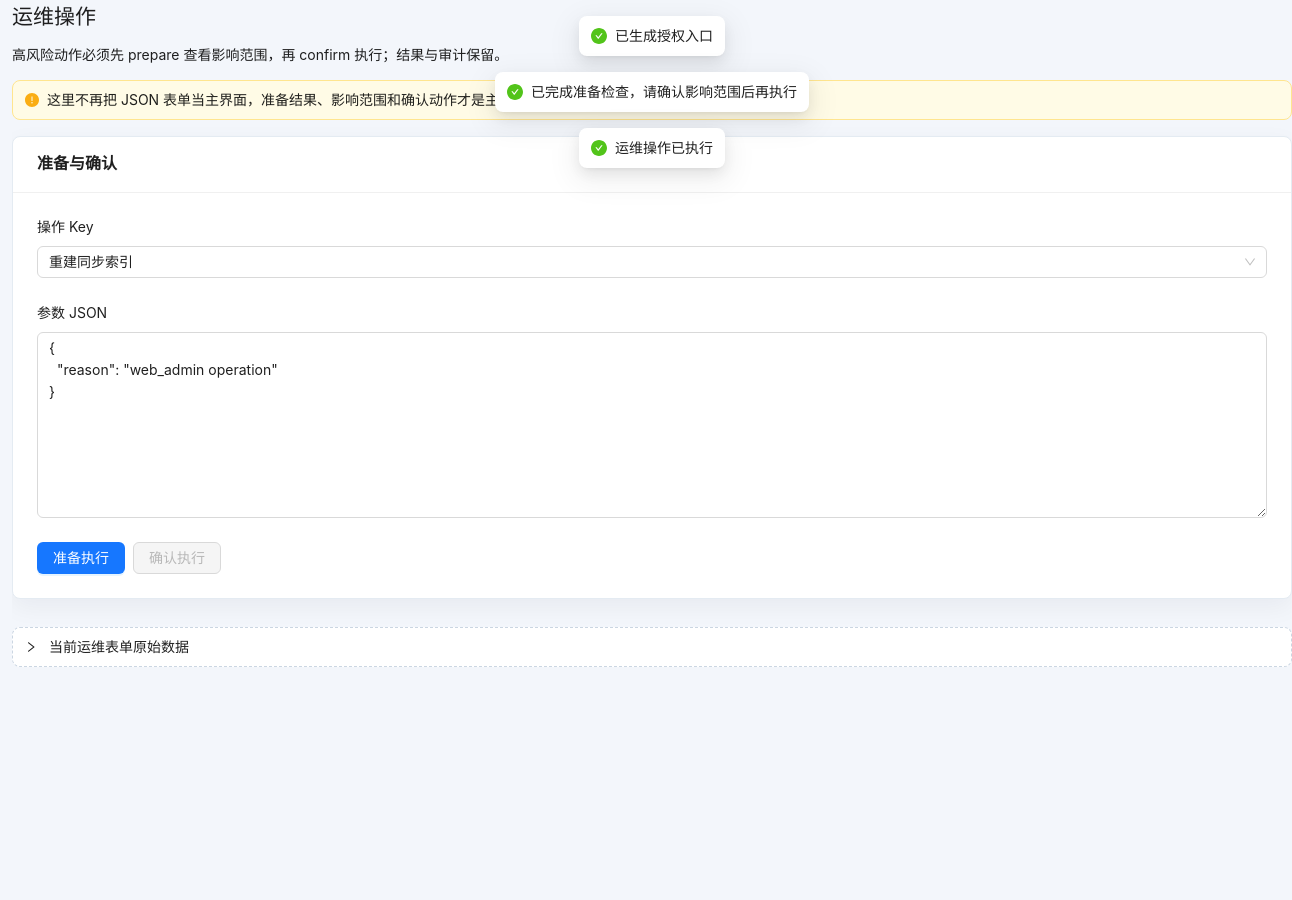
Test case: OperationsPage › shows prepare errors without enabling confirm
Click the button "准备执行": (81, 558) [37,542,125,574]
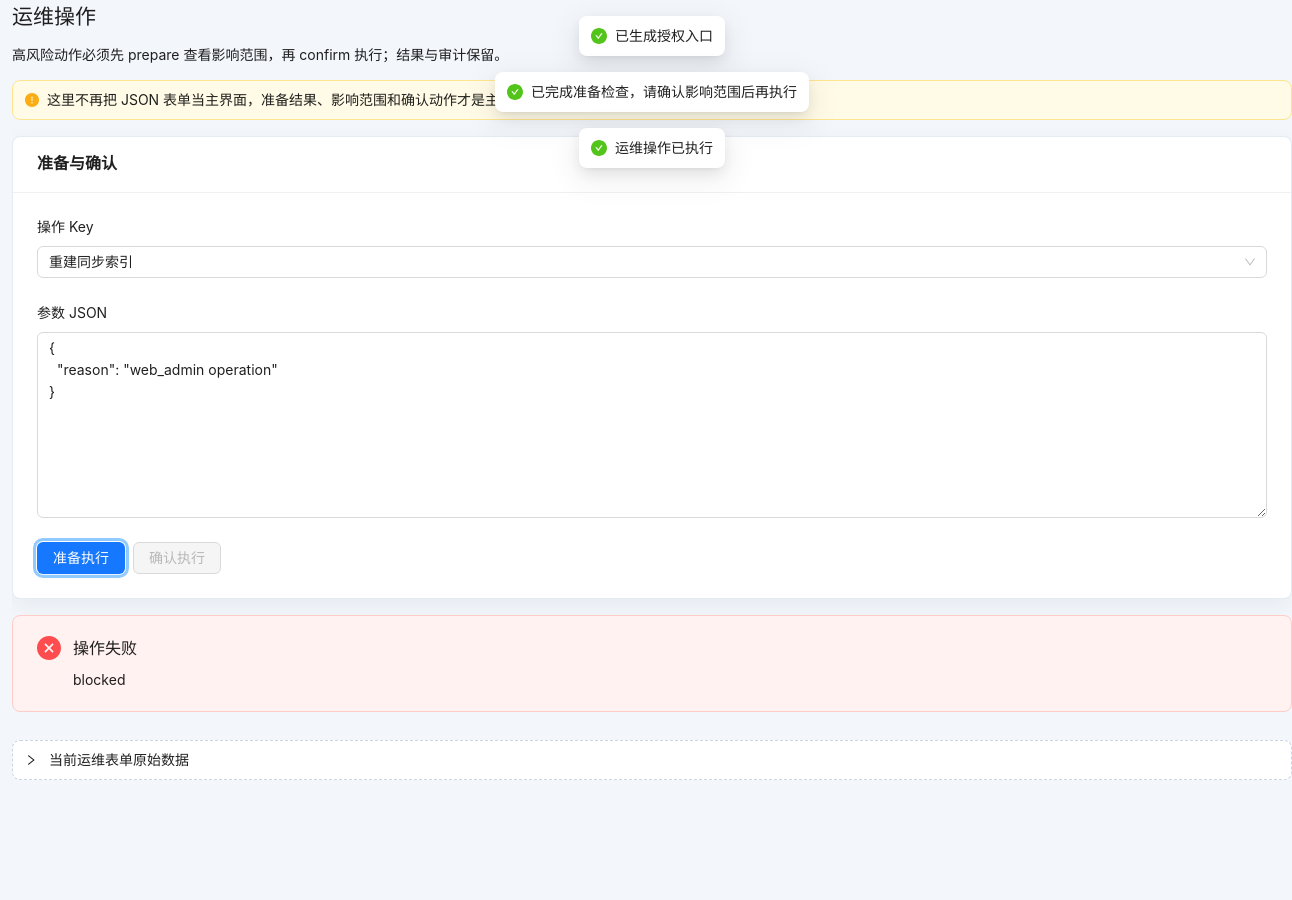
Check: the button "确认执行" is disabled, box [133,542,221,574]
Check: the text "blocked" is shown, box [73,671,126,688]
